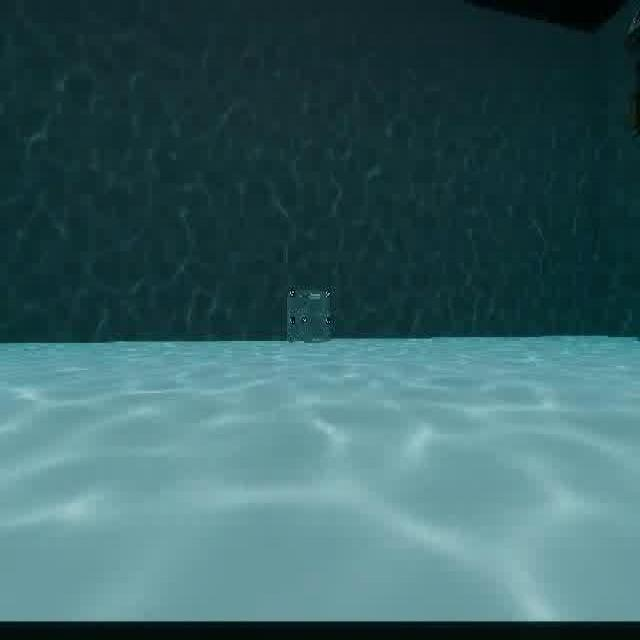Docking Station: (284, 279, 338, 347)
